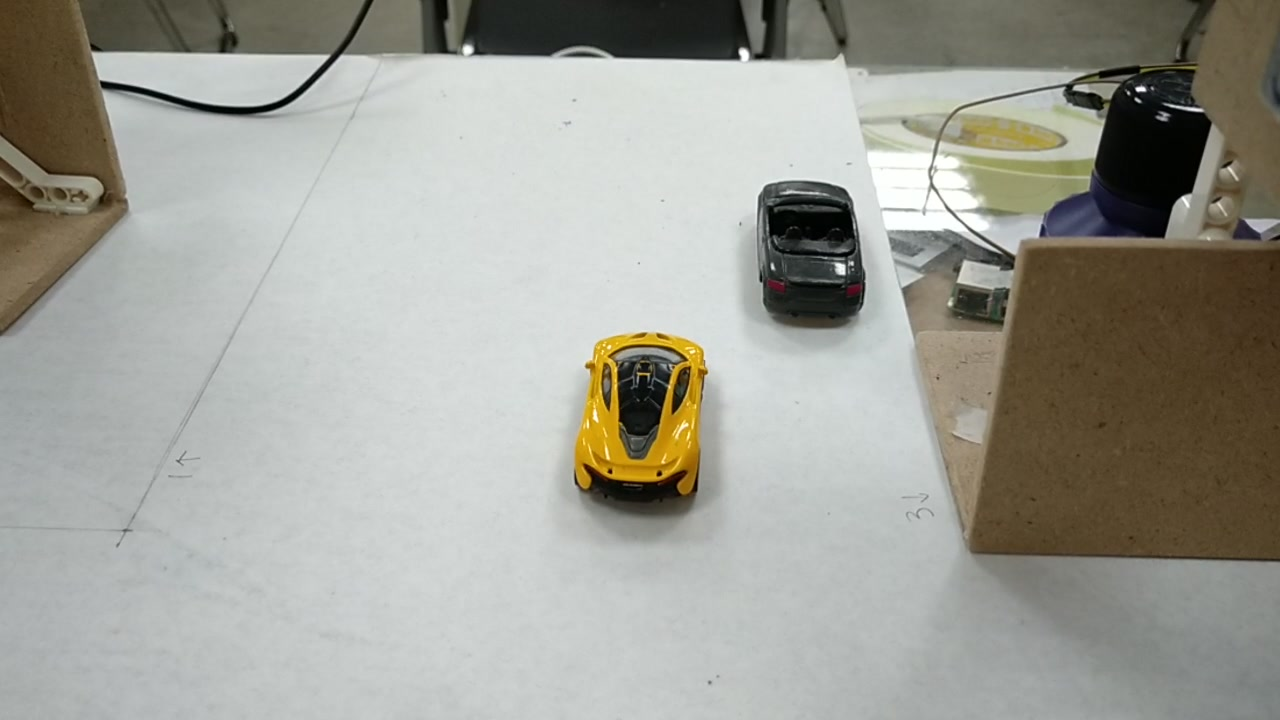car: (579, 336, 708, 489), (750, 179, 859, 304)
